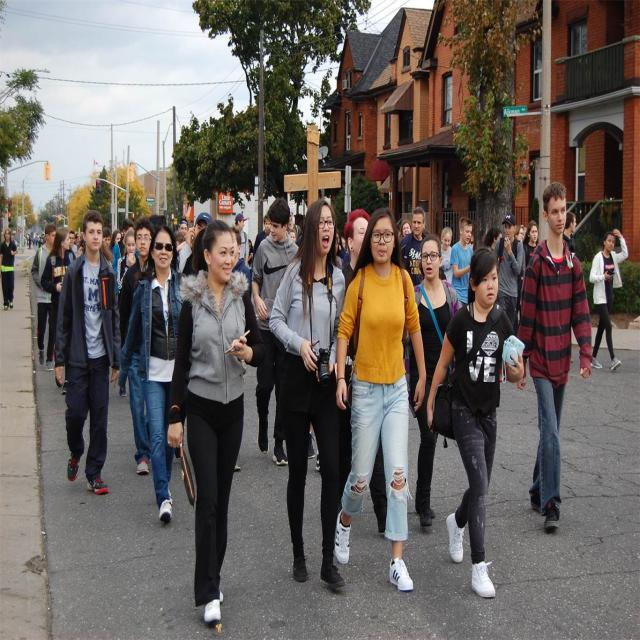body: (162, 216, 268, 630), (333, 207, 428, 599), (425, 243, 527, 606), (270, 193, 354, 594), (512, 180, 594, 536), (50, 209, 124, 496), (117, 225, 187, 523), (399, 232, 465, 533), (338, 208, 389, 541), (250, 197, 300, 469), (117, 216, 155, 475), (40, 226, 83, 372), (588, 225, 629, 373), (284, 210, 355, 271), (116, 227, 141, 399), (30, 221, 58, 372), (493, 212, 524, 329), (100, 216, 141, 284), (177, 211, 214, 279), (398, 205, 427, 288), (449, 216, 474, 307), (148, 214, 191, 255), (230, 226, 252, 299), (0, 226, 18, 311), (233, 211, 251, 270), (438, 225, 454, 286), (522, 218, 541, 268), (5, 228, 47, 250), (64, 226, 86, 266), (480, 224, 504, 255), (562, 211, 577, 256), (513, 222, 530, 245), (245, 237, 256, 268), (401, 219, 414, 242), (468, 230, 476, 256)
